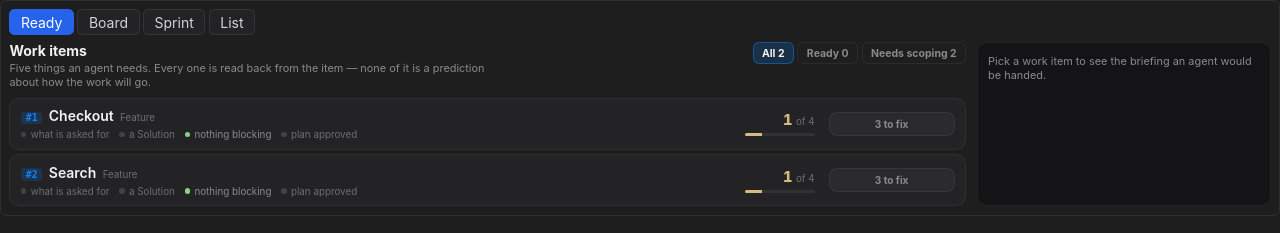
it: WorkItemViews › switches to Sprint view grouping by sprint plus Unscheduled
What coordinates should you click on to do the following:
click the tab "Sprint"
I would click on:
 (174, 22)
Its box is 143,9 -> 205,35.
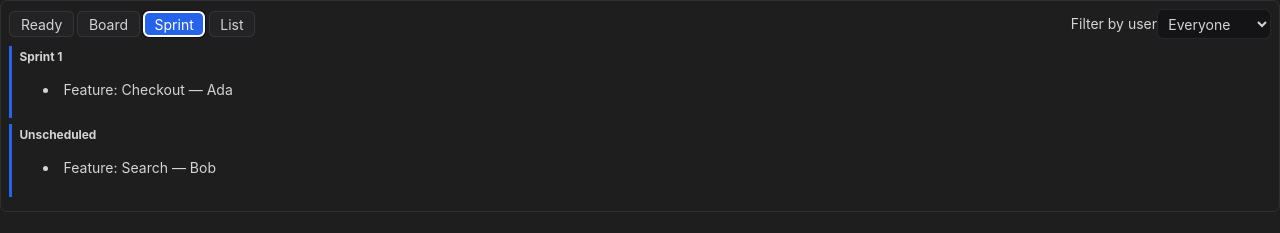
Result: the element "Sprint 1" shows "Checkout" at 59,78 -> 1264,101
Result: the element "Unscheduled" shows "Search" at 59,156 -> 1264,179
